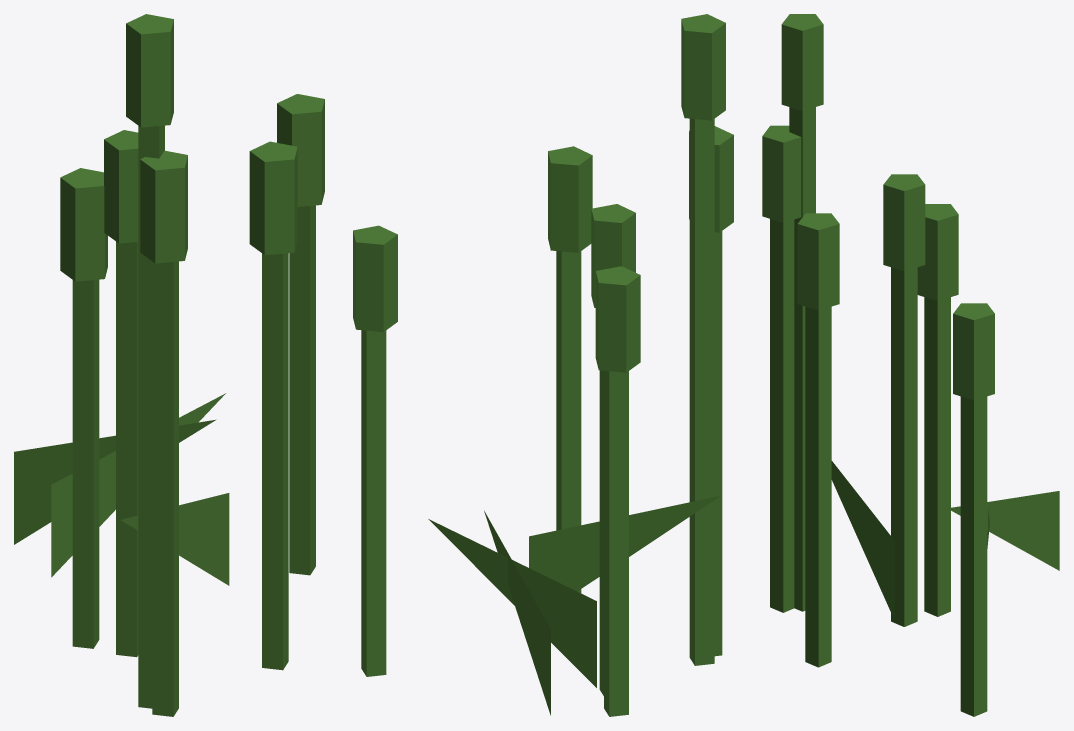
File: reed.obj
The picture shows the model from 3 angles, left to right: view 1: azimuth 30°, elevation 25°; view 2: azimuth 150°, elevation 25°; view 3: azimuth 270°, elevation 25°; orthographic projection. The views are drawn at different scales.
Size of the model in its own units: 0.1342 by 0.2915 by 0.1344.
